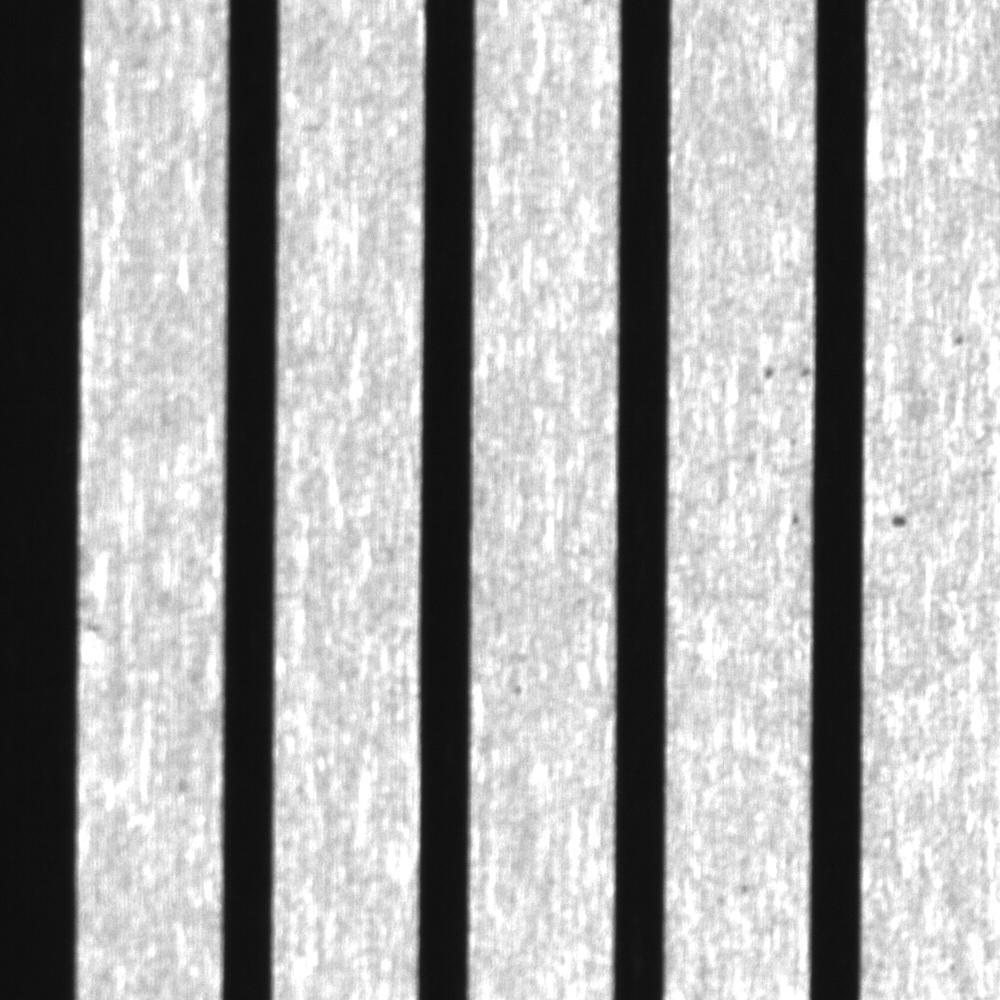Etching: (749, 355, 813, 392), (780, 500, 808, 537)
Pinhole: (879, 501, 931, 544), (944, 316, 983, 363), (728, 871, 762, 909), (501, 676, 538, 704)
